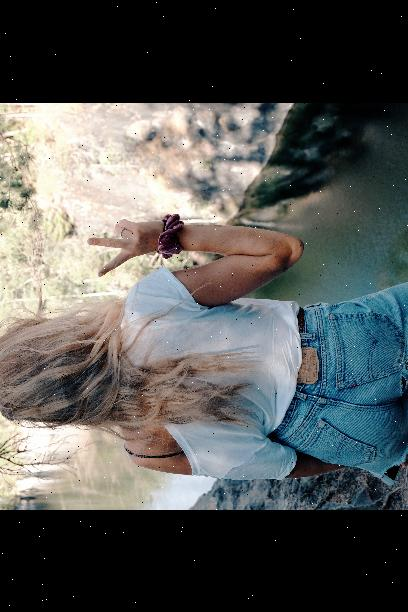Scissors: (84, 216, 170, 277)
